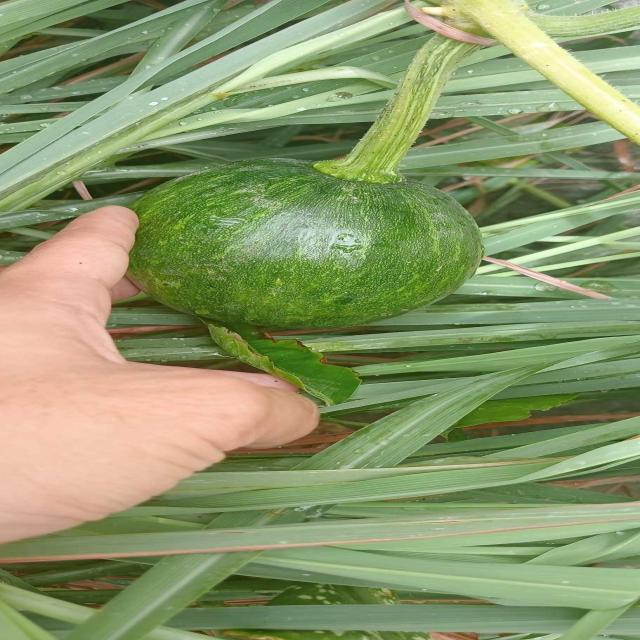squash: (129, 151, 501, 332)
